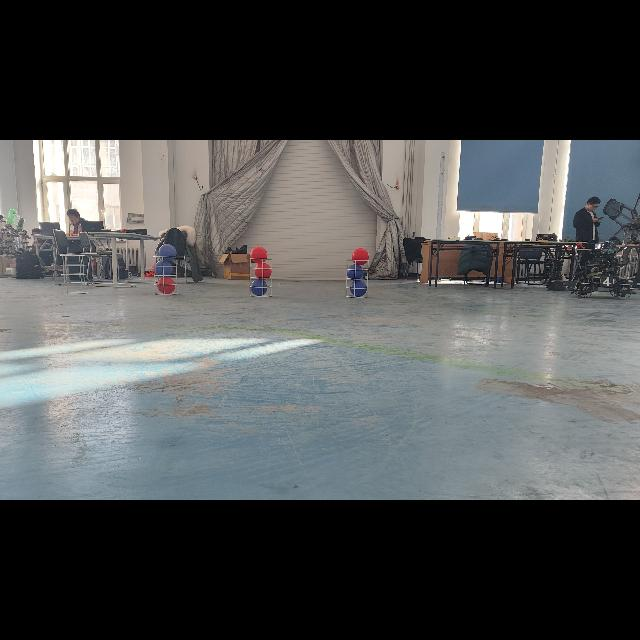B: (250, 278, 268, 296), (158, 243, 176, 261), (154, 260, 173, 276), (346, 264, 364, 280), (350, 281, 368, 297)
R: (254, 262, 272, 280), (252, 247, 270, 263), (157, 278, 175, 294), (352, 248, 368, 264)
S: (58, 250, 94, 296), (150, 254, 182, 298), (342, 259, 372, 299), (247, 256, 275, 298)
